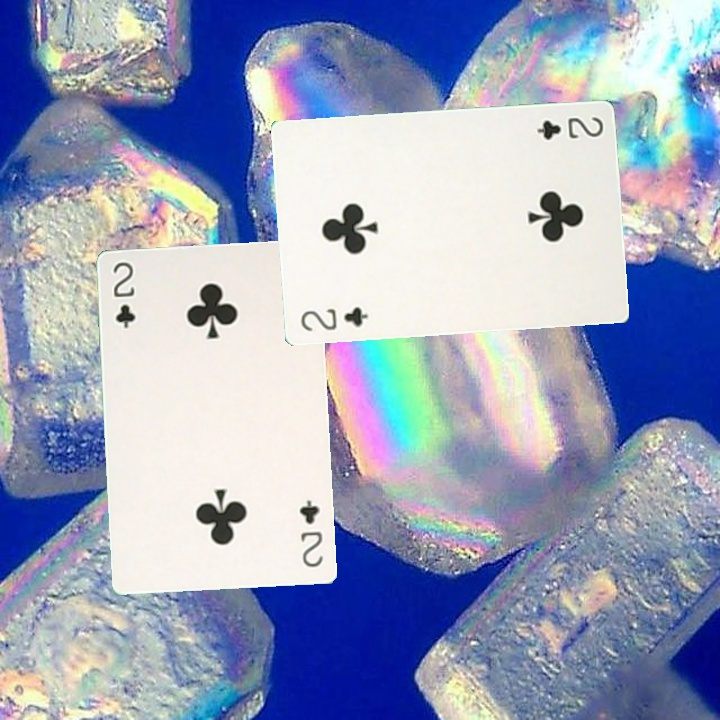2c: (297, 303, 371, 334), (532, 112, 606, 143), (108, 258, 138, 330), (296, 496, 325, 570)
